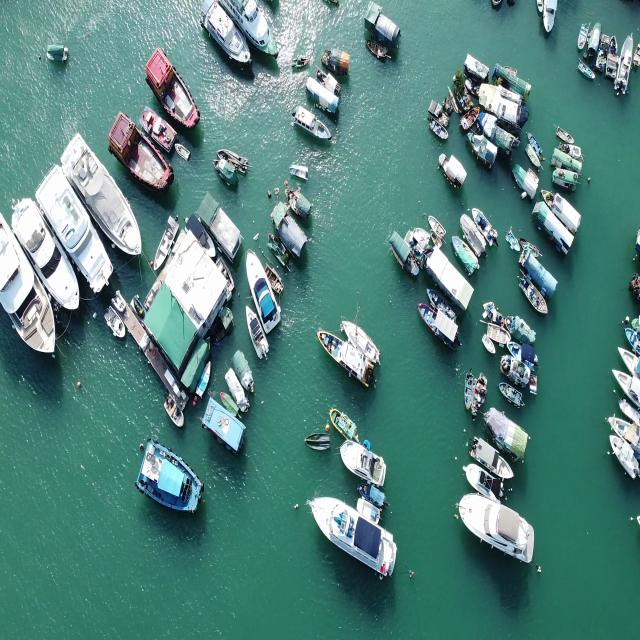ship: (23, 164, 118, 288), (0, 207, 71, 370), (56, 132, 150, 253), (10, 190, 84, 320), (304, 496, 398, 578), (453, 487, 538, 569), (136, 434, 205, 516), (108, 118, 174, 196), (146, 43, 202, 133), (199, 2, 252, 77), (219, 0, 284, 59), (244, 247, 286, 336), (318, 333, 377, 394), (414, 302, 464, 355), (458, 200, 496, 266), (336, 442, 389, 486), (288, 106, 337, 151), (270, 201, 308, 259), (341, 315, 384, 363), (605, 432, 637, 487), (389, 230, 423, 280), (432, 152, 468, 191), (224, 365, 250, 412), (212, 156, 248, 188), (234, 347, 255, 398), (476, 200, 496, 252), (498, 380, 528, 414), (162, 394, 190, 430), (330, 405, 362, 436), (283, 188, 311, 222), (281, 160, 315, 187), (219, 146, 251, 174), (39, 40, 74, 64), (103, 305, 125, 340), (423, 207, 448, 237), (306, 430, 332, 455), (526, 130, 546, 160), (426, 121, 450, 144), (574, 56, 595, 82), (174, 142, 196, 166), (472, 369, 482, 418), (464, 365, 471, 419), (203, 362, 212, 403), (288, 54, 312, 66)
